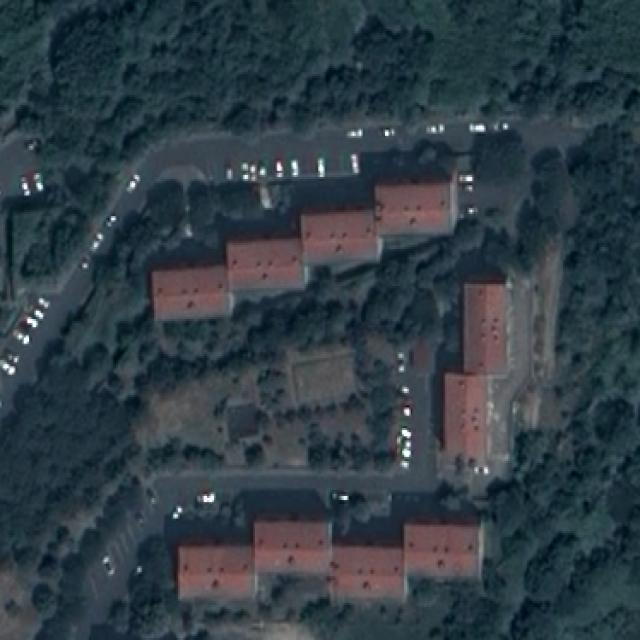Batiment: (301, 209, 380, 264), (406, 523, 480, 579), (377, 183, 456, 235), (177, 546, 253, 600), (153, 267, 226, 321), (254, 523, 328, 575), (227, 240, 302, 291), (464, 283, 506, 374), (445, 373, 486, 464), (333, 547, 402, 599)
